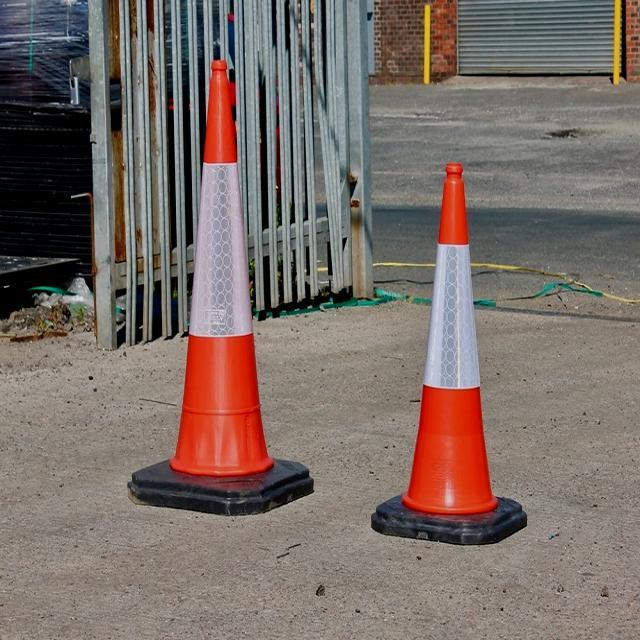traffic cone: (126, 56, 315, 516), (372, 162, 528, 546)
